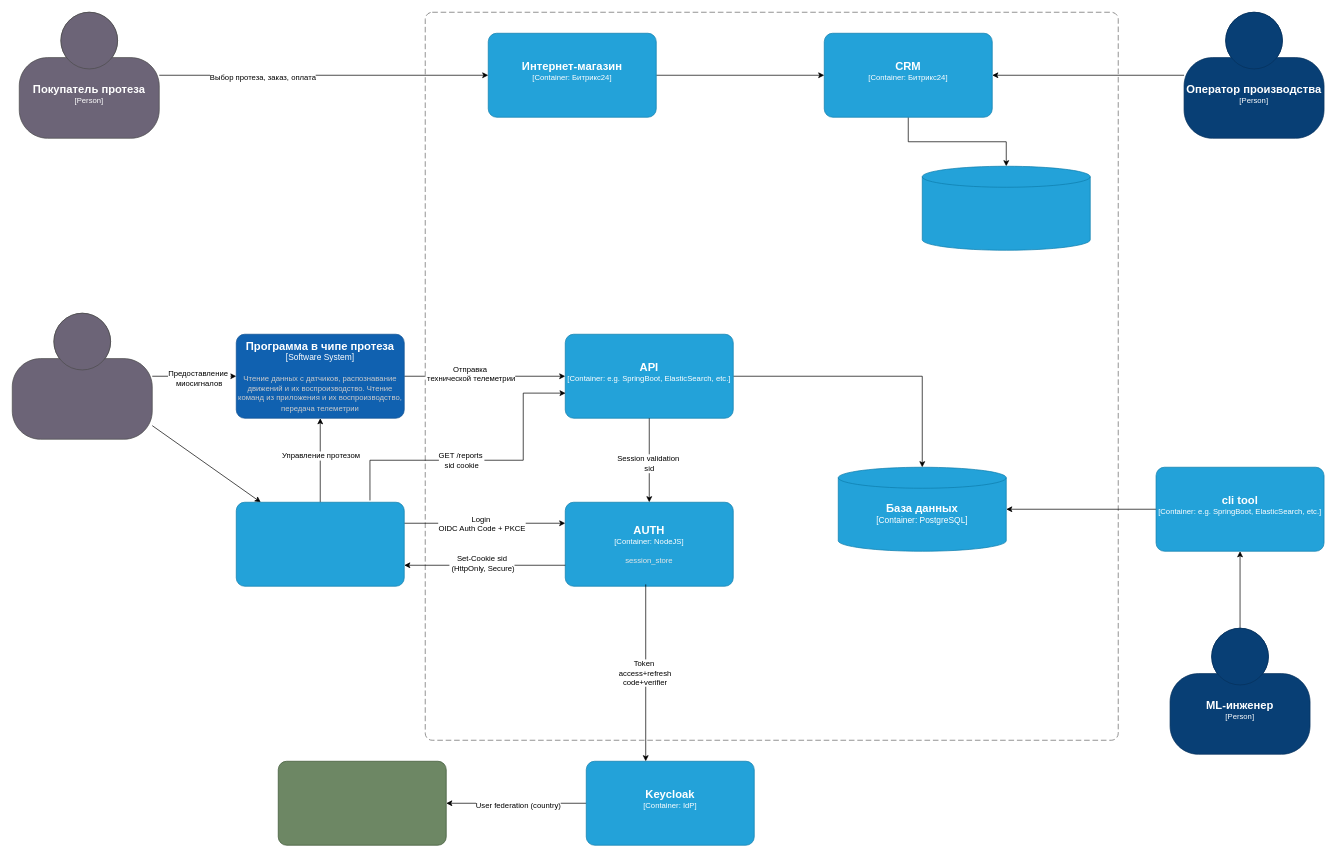
Image size: 1336x858. Some labels were removed from this diagram. Here are the shapes that lost their labels. From the top down, the box of each, then its label:
(922, 166, 1090, 250): CRM DB [Container: e.g. Oracle Database 12]
(12, 313, 152, 439): Пилот протеза [Person] С этого человека считываются данные
(425, 12, 1118, 740): BionicPRO [Software System]
(236, 502, 404, 586): Приложение для донастройки протеза [Container: iOD, Android]
(278, 761, 446, 845): External LDAP [Container: users catalog, groups ]
